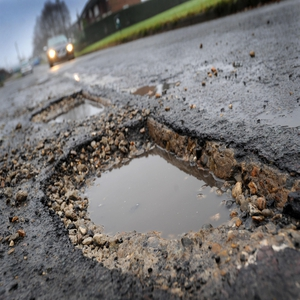pothole: (41, 114, 300, 279), (29, 97, 109, 117)
